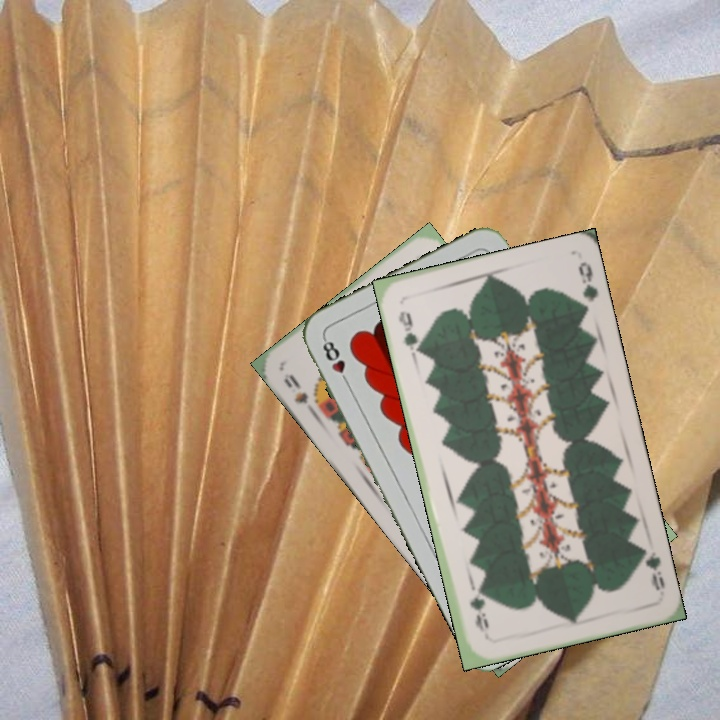G9: (633, 542, 668, 594), (394, 307, 424, 358)
H8: (318, 334, 353, 389)
S9: (279, 370, 320, 419)
